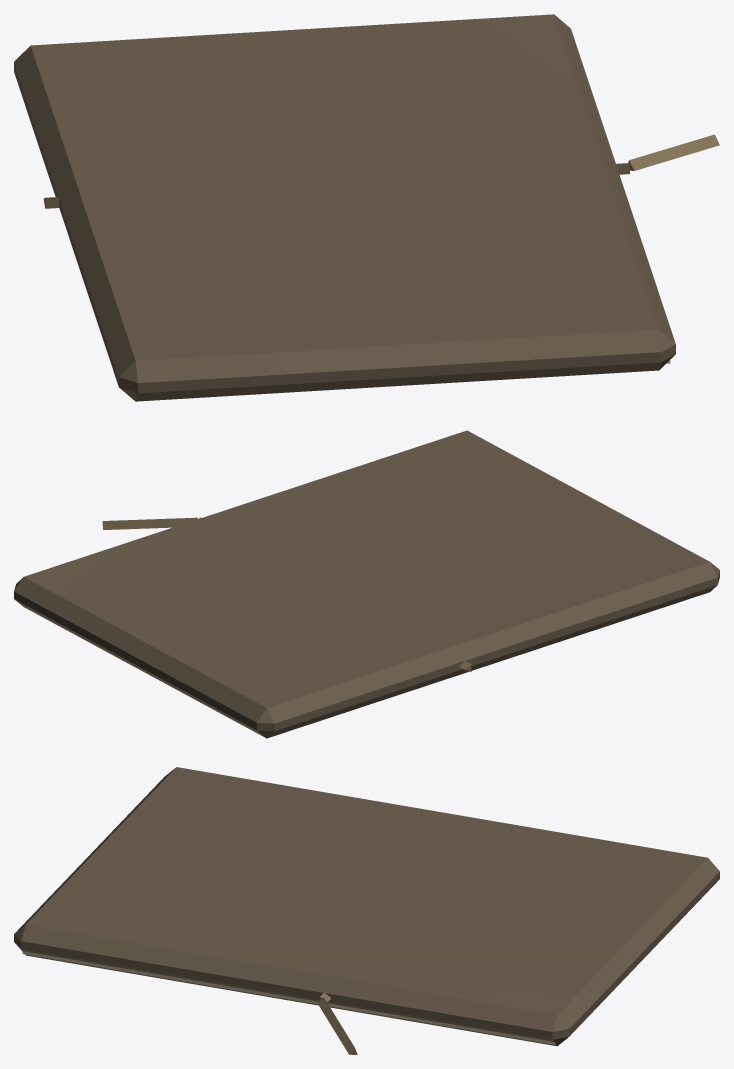
Rendered from ph_item_lorenz_ledger_2.glb.
3 views of the same model, one above another, from view 1: azimuth 30°, elevation 25°; view 2: azimuth 150°, elevation 25°; view 3: azimuth 270°, elevation 25° (orthographic). The views are drawn at different scales.
Parts seen in each view (by area): view 1: ph_item_lorenz_ledger_2; view 2: ph_item_lorenz_ledger_2; view 3: ph_item_lorenz_ledger_2.
Boxes of the visible parts, left/top/right/bottom form: ph_item_lorenz_ledger_2: left=14, top=14, right=719, bottom=401; ph_item_lorenz_ledger_2: left=14, top=430, right=719, bottom=738; ph_item_lorenz_ledger_2: left=14, top=767, right=719, bottom=1054.
Size of the model in its own units: 0.2921 by 0.016 by 0.33.
